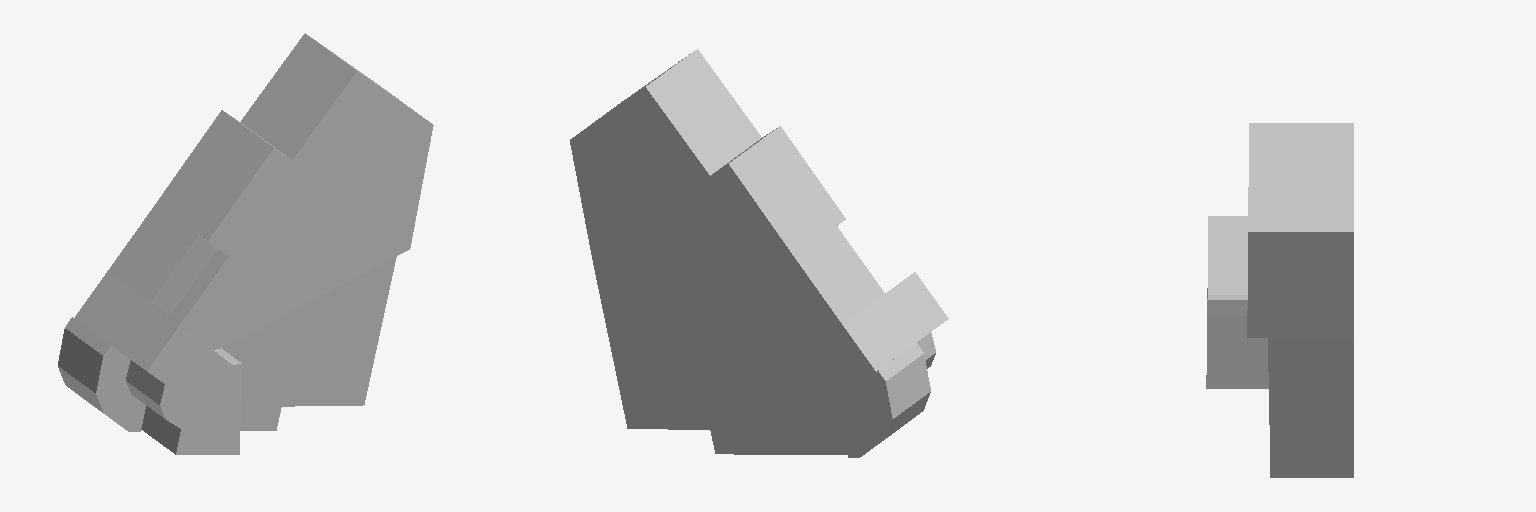
The model's file is talo_Build0000046.obj.
3 views of the same model, side by side, from view 1: azimuth 30°, elevation 25°; view 2: azimuth 150°, elevation 25°; view 3: azimuth 270°, elevation 25° (orthographic).
Bounding box in the file's own units: 18.2 × 18.85 × 7.18.